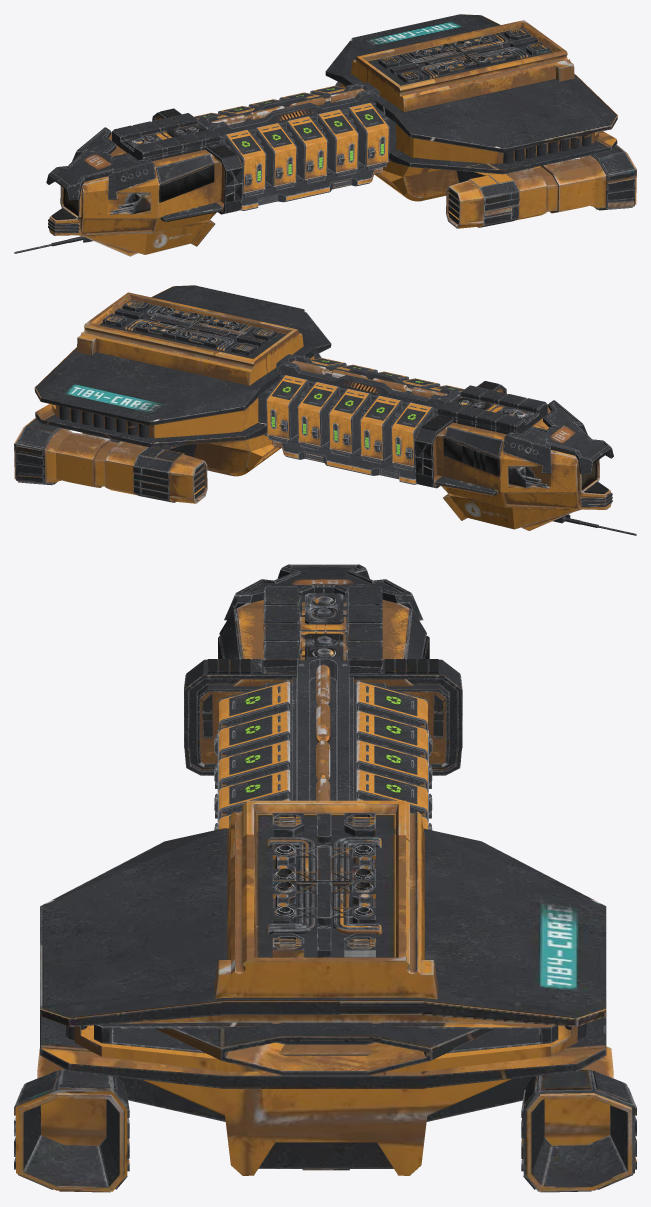
The model's file is cargo-blaice.glb.
The picture shows the model from 3 angles, top to bottom: view 1: azimuth 30°, elevation 25°; view 2: azimuth 150°, elevation 25°; view 3: azimuth 270°, elevation 25°; orthographic projection. The views are drawn at different scales.
Visible parts, largest first — view 1: root; view 2: root; view 3: root.
Part boxes in pixels (x1,y1,x2,y2): root: [14, 14, 636, 256]; root: [14, 285, 636, 535]; root: [14, 564, 636, 1192].
Size of the model in its own units: 75 by 17.24 by 40.15.
Materials: 3 (3 with a texture image).
